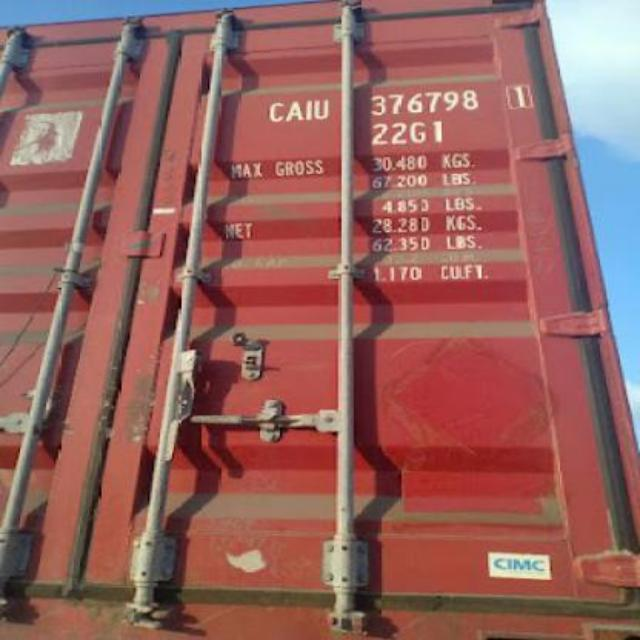1: (508, 81, 538, 113)
3: (368, 89, 384, 118)
6: (404, 85, 424, 118)
7: (422, 86, 440, 118), (384, 90, 404, 116)
8: (458, 83, 479, 119)
9: (440, 84, 458, 118)
A: (284, 94, 304, 124)
C: (264, 98, 284, 124)
I: (304, 94, 314, 126)
U: (312, 92, 328, 121)
